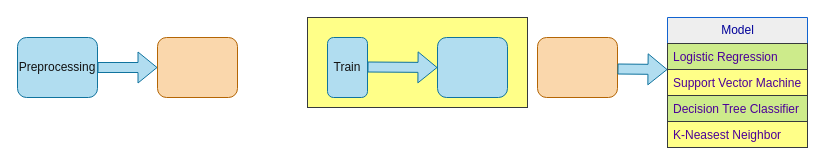
Some shapes in this 825 by 168 pixel diagram are drawn without their labels. The shapes that lost their labels are listed below. From the top down, each one's centre as x and y in pixels, then its label:
the point at 197,67: Traing Test Split
the point at 472,67: Grid Search
the point at 577,67: Test
